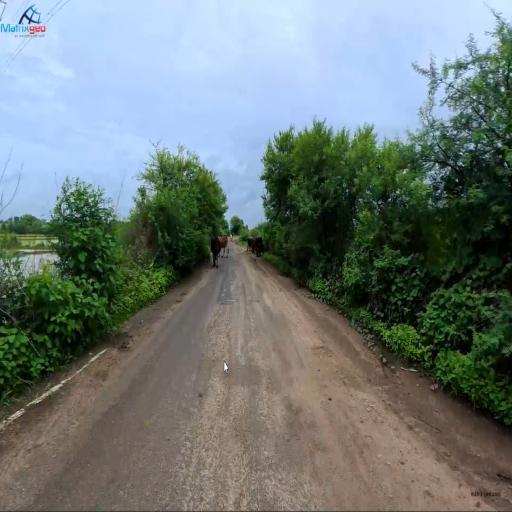ravelling: (191, 394, 302, 493)
